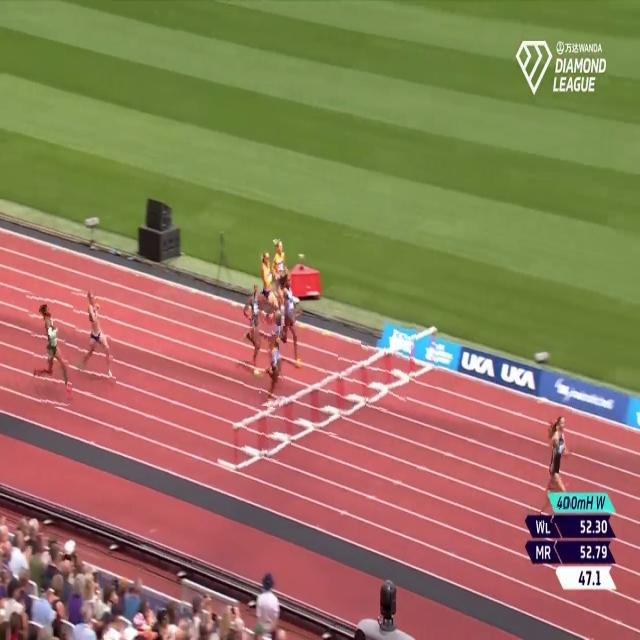athlete: (29, 289, 70, 409), (74, 289, 114, 394), (542, 405, 572, 523), (263, 306, 291, 408), (280, 274, 306, 372), (244, 280, 265, 390), (255, 241, 273, 342), (273, 240, 293, 326)
hurdle: (261, 388, 290, 461), (363, 338, 391, 411), (231, 407, 262, 472), (388, 334, 414, 410), (410, 322, 440, 387), (314, 370, 341, 436), (339, 352, 366, 417), (292, 378, 317, 444)
